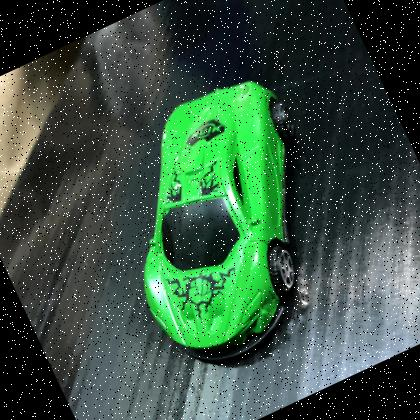Car: (143, 81, 300, 365)
